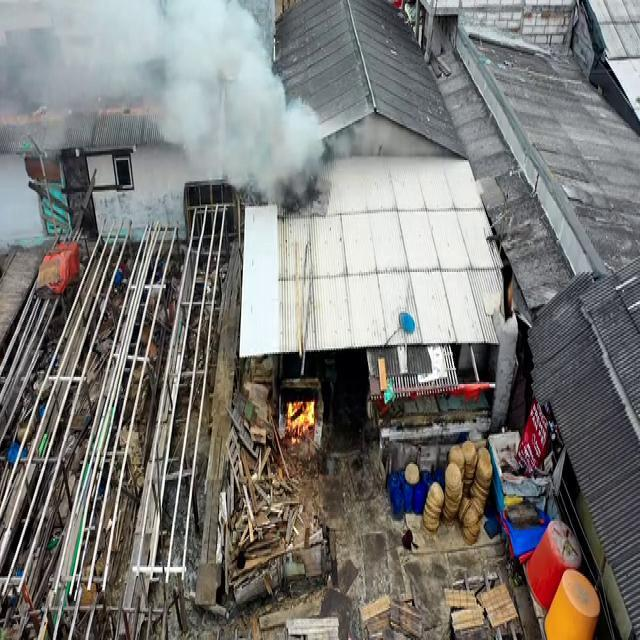smoke: (3, 4, 193, 142), (164, 2, 264, 144), (192, 124, 289, 202), (286, 97, 322, 190), (253, 80, 290, 154)
